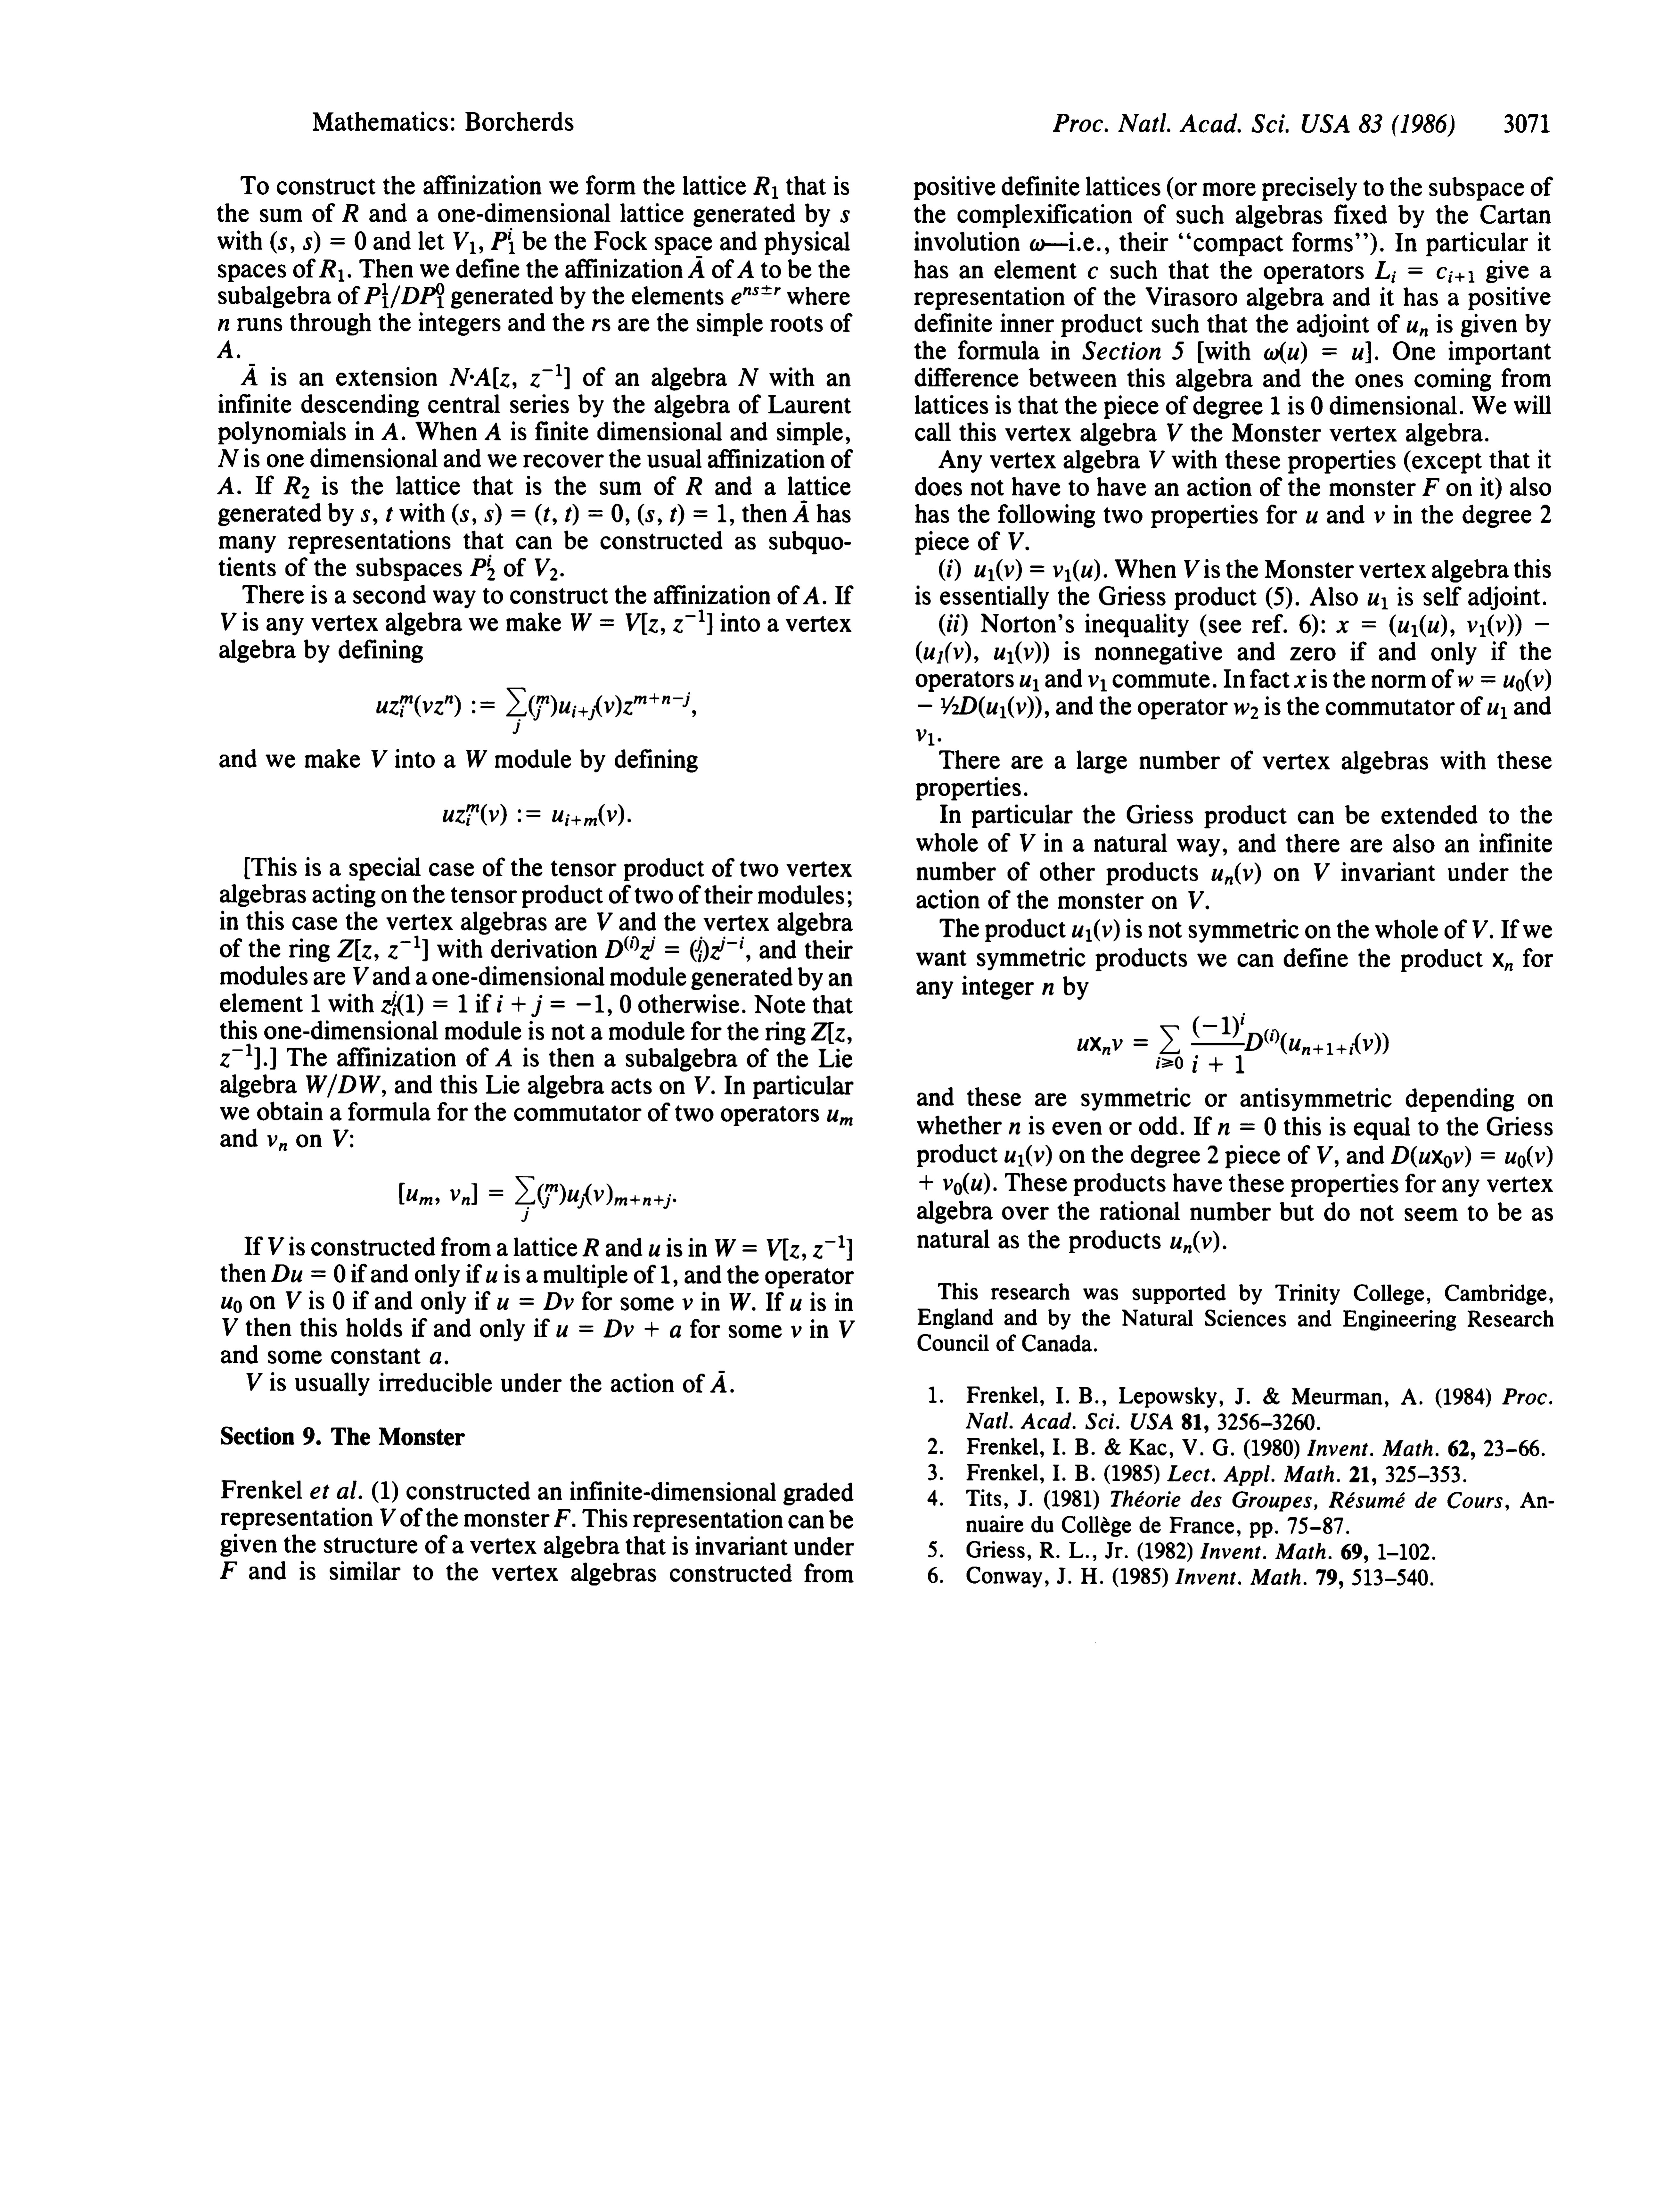maths: (1078, 1013, 1389, 1073), (376, 688, 695, 734), (399, 1177, 676, 1223), (452, 503, 628, 526), (443, 805, 623, 826), (570, 609, 711, 635), (1391, 1145, 1553, 1168), (1389, 614, 1549, 637), (715, 1235, 852, 1260), (916, 640, 1048, 663), (450, 363, 570, 388), (974, 559, 1099, 582), (918, 695, 1041, 718), (605, 935, 702, 962), (498, 995, 611, 1016), (337, 935, 427, 962), (556, 1320, 681, 1337), (364, 282, 445, 309), (1458, 669, 1551, 692), (637, 503, 725, 526), (270, 231, 365, 252), (305, 1074, 379, 1097), (688, 256, 754, 279), (919, 1173, 990, 1194), (221, 1043, 275, 1069), (272, 1265, 344, 1283), (498, 1293, 574, 1309), (1218, 1117, 1276, 1136), (1073, 919, 1119, 942), (1211, 863, 1260, 884), (1170, 1231, 1219, 1253), (1375, 261, 1422, 282), (1004, 1145, 1052, 1166), (731, 286, 780, 305), (1264, 342, 1308, 363), (810, 1022, 851, 1044), (709, 937, 743, 960), (454, 231, 484, 254), (432, 993, 468, 1013), (491, 228, 515, 254), (469, 554, 494, 580), (535, 559, 563, 580), (1436, 266, 1474, 282), (754, 176, 778, 199), (319, 259, 344, 281), (284, 476, 309, 498), (709, 1371, 734, 1392), (1031, 238, 1068, 251), (826, 1110, 852, 1126), (217, 448, 238, 468), (217, 341, 240, 358), (1234, 702, 1258, 718), (916, 729, 941, 745), (240, 363, 258, 385), (738, 369, 759, 386), (466, 750, 487, 767), (729, 1293, 750, 1311), (554, 1508, 575, 1526), (1008, 533, 1029, 550), (1188, 891, 1209, 909), (1493, 953, 1512, 970), (792, 501, 808, 522), (266, 1134, 288, 1150), (221, 1297, 242, 1313), (1406, 321, 1428, 337), (1422, 478, 1440, 496), (1368, 593, 1387, 609), (1020, 676, 1039, 692), (1488, 702, 1507, 718), (342, 205, 358, 222), (484, 423, 501, 439), (686, 476, 702, 494), (803, 586, 819, 603), (221, 612, 236, 630), (371, 750, 386, 767), (596, 912, 612, 930), (353, 967, 369, 984), (496, 1048, 512, 1066), (268, 1237, 284, 1254), (582, 1239, 598, 1256), (286, 1291, 302, 1309), (222, 1318, 238, 1336), (247, 1373, 263, 1390), (379, 1508, 395, 1526), (221, 1561, 236, 1579), (1166, 423, 1182, 441), (1149, 450, 1165, 468), (1184, 559, 1200, 577), (1089, 676, 1106, 692), (1020, 833, 1036, 850), (1472, 921, 1488, 939), (1316, 1147, 1332, 1164), (381, 423, 397, 439), (838, 1321, 854, 1337), (360, 510, 378, 524), (695, 1076, 709, 1094), (334, 1129, 348, 1147), (1315, 863, 1329, 880), (431, 1351, 448, 1364), (619, 995, 630, 1013), (334, 1291, 344, 1309), (1311, 397, 1322, 415), (1541, 505, 1551, 522), (311, 993, 319, 1011), (660, 1265, 669, 1283), (1271, 397, 1279, 415), (485, 1270, 498, 1283), (1352, 348, 1364, 360), (1306, 512, 1318, 524), (1336, 621, 1348, 633), (1294, 676, 1306, 688), (217, 319, 229, 330), (649, 1244, 660, 1256), (791, 1299, 801, 1311), (791, 1325, 801, 1337), (1087, 266, 1098, 279), (1043, 983, 1054, 995), (1009, 1122, 1020, 1134), (386, 506, 394, 522), (840, 210, 849, 222), (683, 1299, 692, 1311), (1322, 348, 1336, 355), (1375, 512, 1384, 522), (1362, 621, 1376, 626), (1029, 1503, 1032, 1507), (1232, 1452, 1234, 1456)
